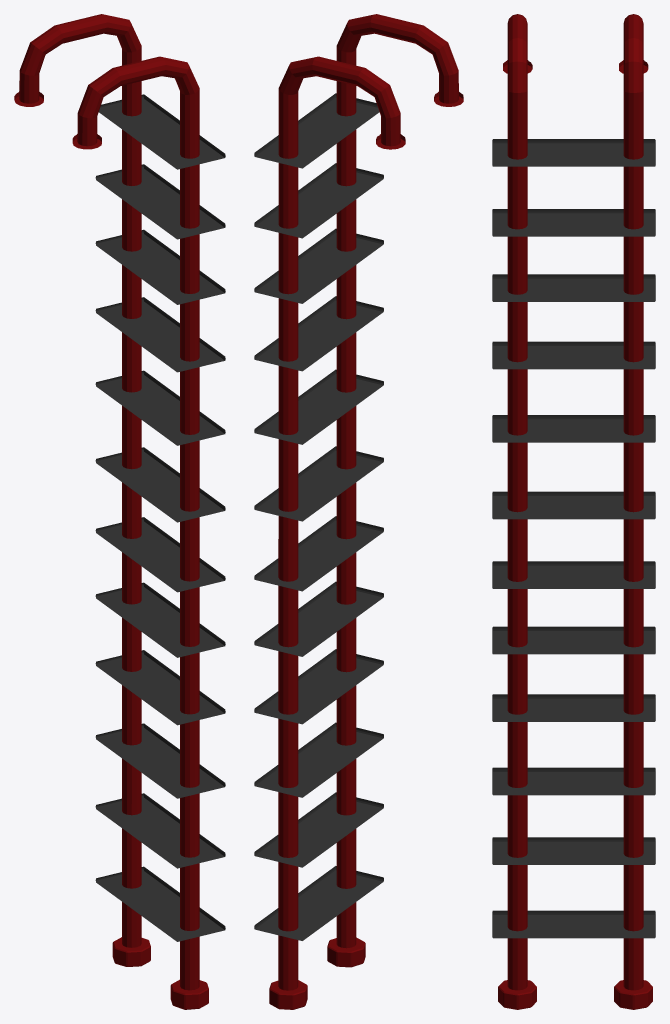
The model's file is Ladder2.fbx.
3 views of the same model, side by side, from view 1: azimuth 30°, elevation 25°; view 2: azimuth 150°, elevation 25°; view 3: azimuth 270°, elevation 25° (orthographic).
Parts seen in each view (by area): view 1: Plane.001, Plane.007, Plane.008, Plane.005, Plane.012, Plane.011, Plane.006, Plane.003, Plane.004, Plane.010, Plane.014, Plane.013 (+2 smaller); view 2: Plane.007, Plane.001, Plane.003, Plane.004, Plane.006, Plane.011, Plane.009, Plane.005, Plane.008, Plane.010, Plane.013, Plane.012 (+2 smaller); view 3: Plane.001, Plane.007, Plane.008, Plane.005, Plane.012, Plane.014, Plane.010, Plane.003, Plane.002, Plane.006, Plane.009, Plane.004 (+2 smaller).
Part boxes in pixels (x1=…): Plane.001: x1=72, y1=56, x2=208, y2=1009; Plane.007: x1=14, y1=14, x2=150, y2=966; Plane.008: x1=95, y1=723, x2=225, y2=798; Plane.005: x1=95, y1=297, x2=225, y2=372; Plane.012: x1=95, y1=447, x2=225, y2=522; Plane.011: x1=95, y1=517, x2=225, y2=592; Plane.006: x1=95, y1=370, x2=225, y2=445; Plane.003: x1=95, y1=164, x2=225, y2=239; Plane.004: x1=95, y1=229, x2=225, y2=304; Plane.010: x1=95, y1=582, x2=225, y2=657; Plane.014: x1=95, y1=866, x2=225, y2=941; Plane.013: x1=95, y1=793, x2=225, y2=868; Plane.007: x1=269, y1=56, x2=405, y2=1009; Plane.001: x1=327, y1=14, x2=463, y2=967; Plane.003: x1=254, y1=163, x2=383, y2=238; Plane.004: x1=254, y1=228, x2=383, y2=303; Plane.006: x1=254, y1=369, x2=383, y2=444; Plane.011: x1=254, y1=516, x2=383, y2=591; Plane.009: x1=254, y1=649, x2=383, y2=724; Plane.005: x1=254, y1=296, x2=383, y2=371; Plane.008: x1=254, y1=722, x2=383, y2=797; Plane.010: x1=254, y1=581, x2=383, y2=656; Plane.013: x1=254, y1=792, x2=383, y2=867; Plane.012: x1=254, y1=446, x2=383, y2=521; Plane.001: x1=498, y1=14, x2=536, y2=1009; Plane.007: x1=614, y1=14, x2=652, y2=1009; Plane.008: x1=492, y1=767, x2=655, y2=795; Plane.005: x1=492, y1=341, x2=655, y2=369; Plane.012: x1=492, y1=491, x2=655, y2=519; Plane.014: x1=492, y1=910, x2=655, y2=938; Plane.010: x1=492, y1=626, x2=655, y2=654; Plane.003: x1=492, y1=209, x2=655, y2=236; Plane.002: x1=492, y1=139, x2=655, y2=166; Plane.006: x1=492, y1=415, x2=655, y2=442; Plane.009: x1=492, y1=694, x2=655, y2=721; Plane.004: x1=492, y1=274, x2=655, y2=301.
Bounding box in the file's own units: 32.11 × 211 × 32.87.
